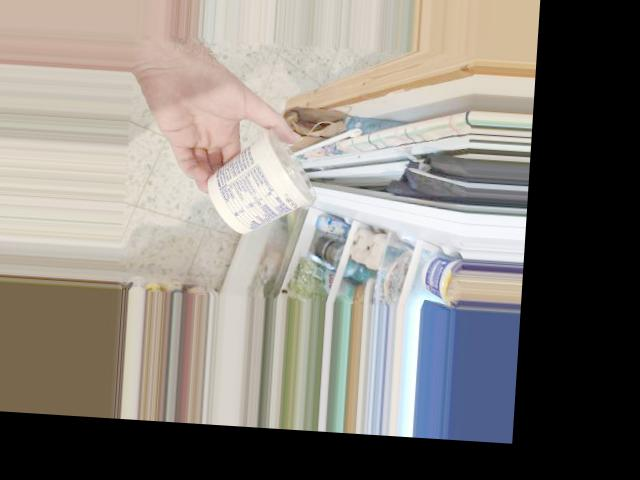cotage: (201, 128, 324, 240)
